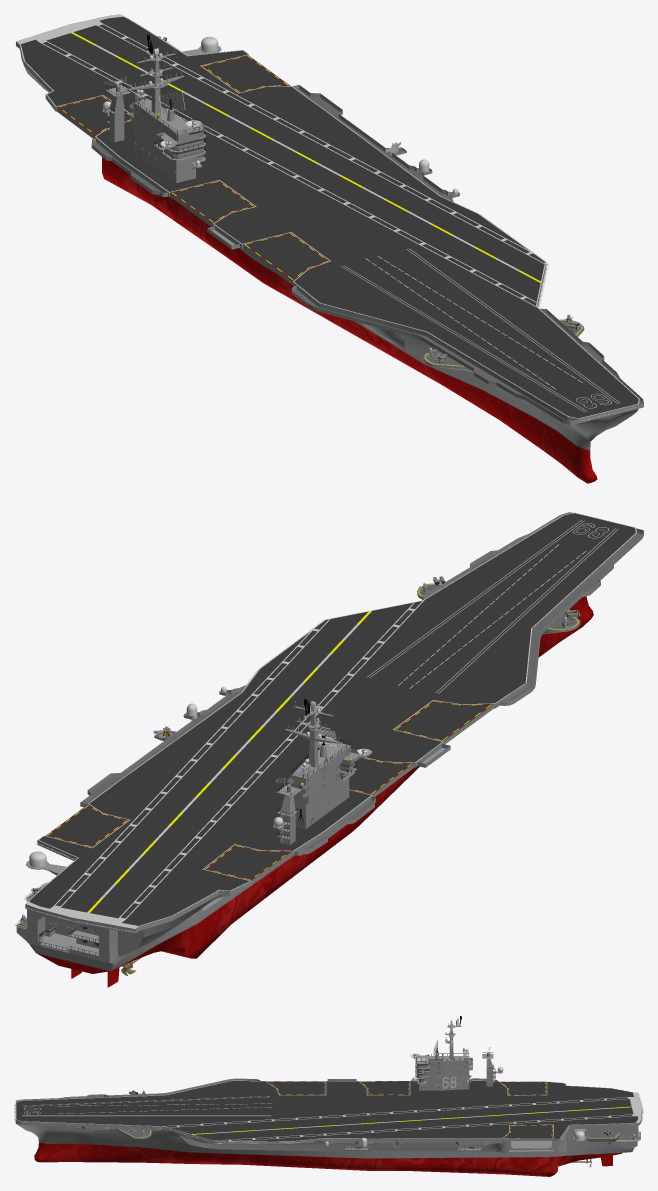
File: carrier.glb
The picture shows the model from 3 angles, top to bottom: view 1: azimuth 30°, elevation 25°; view 2: azimuth 150°, elevation 25°; view 3: azimuth 270°, elevation 25°; orthographic projection. The views are drawn at different scales.
Visible parts, largest first — view 1: carrier baked_0; view 2: carrier baked_0; view 3: carrier baked_0.
Boxes of the visible parts, box(x1,y1,x2,y2) form: carrier baked_0: box(15, 14, 643, 483); carrier baked_0: box(14, 512, 643, 987); carrier baked_0: box(14, 1016, 643, 1176).
Bounding box in the file's own units: 76.69 × 65.21 × 304.
17 materials, 7 textured.
